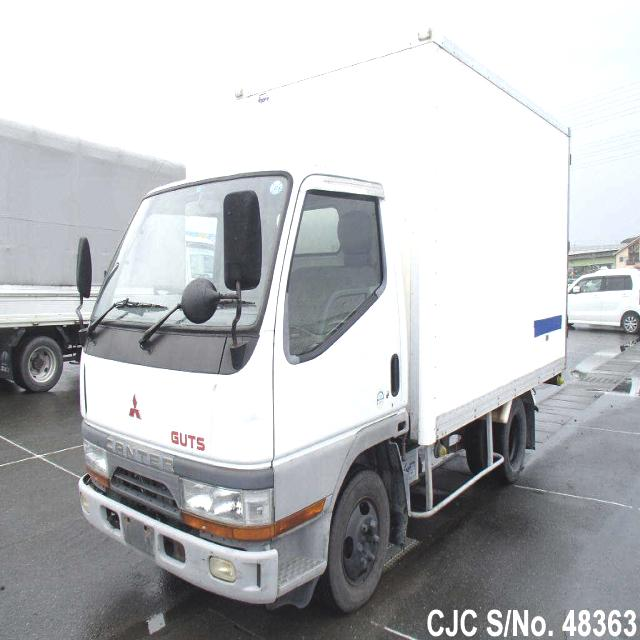truck: (76, 29, 567, 610)
